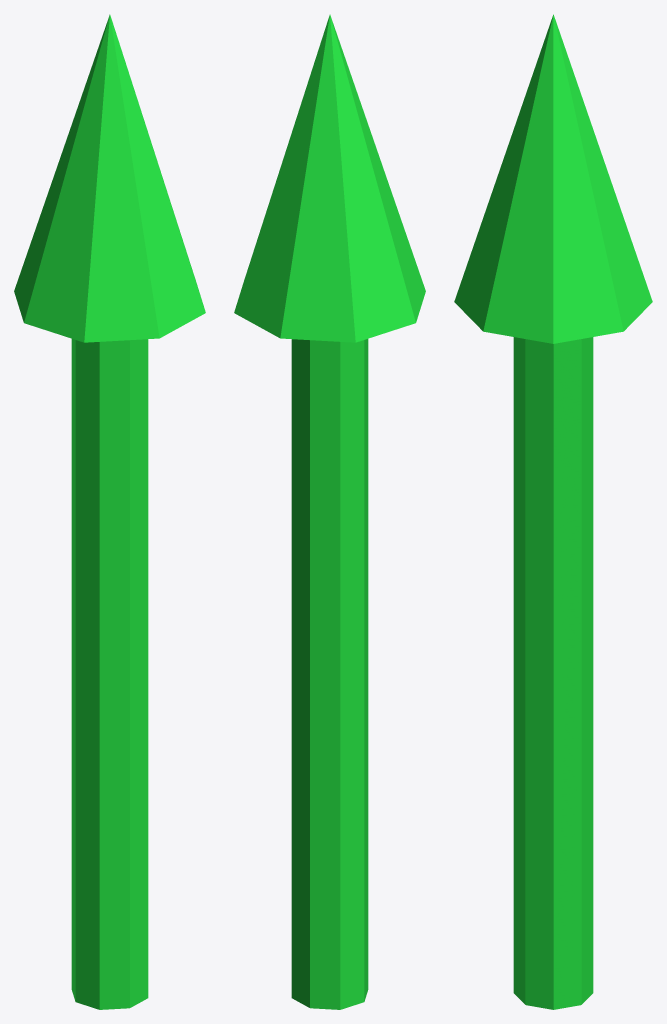
Rendered from y-axis.obj.
The picture shows the model from 3 angles, left to right: view 1: azimuth 30°, elevation 25°; view 2: azimuth 150°, elevation 25°; view 3: azimuth 270°, elevation 25°; orthographic projection.
Visible parts, largest first — view 1: Cylinder, Cone; view 2: Cylinder, Cone; view 3: Cylinder, Cone.
Boxes of the visible parts, x1,y1,x2,y2 form: Cylinder: (71,339,148,1009); Cone: (14,14,205,342); Cylinder: (291,339,368,1009); Cone: (234,14,425,342); Cylinder: (513,337,593,1009); Cone: (454,14,652,343).
Size of the model in its own units: 0.5 by 2.72 by 0.5.
Materials: 1 (1 with a texture image).
